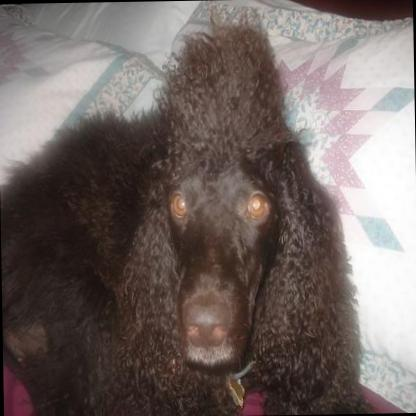Irish_water_spaniel: (0, 17, 368, 416)
